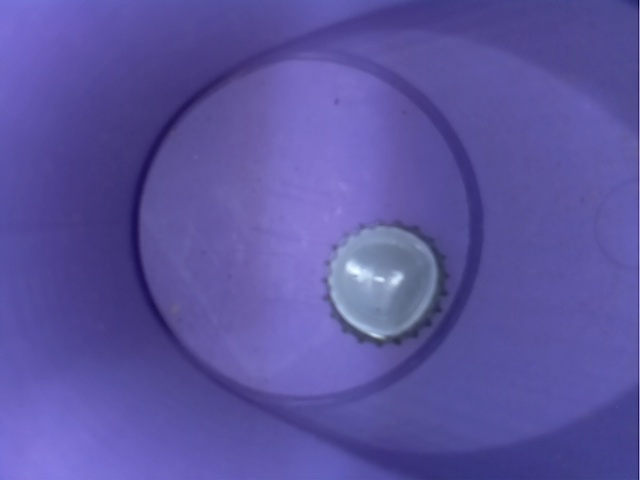capsule: (321, 210, 459, 354)
